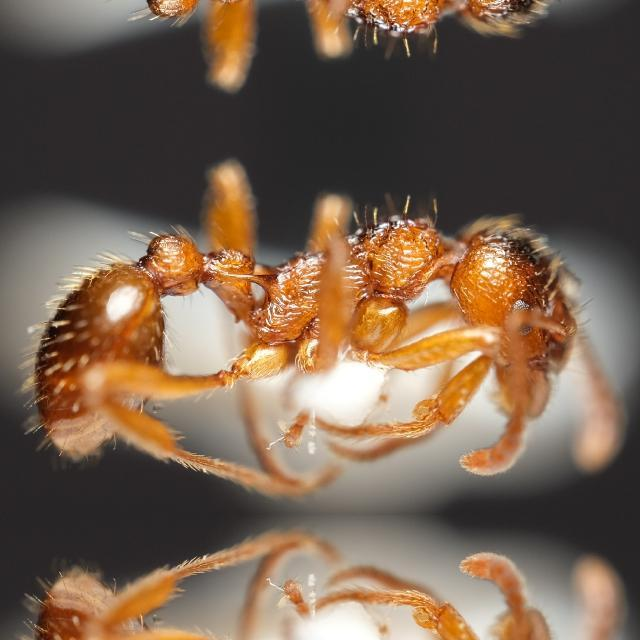Myrmica: (8, 160, 634, 478), (6, 548, 634, 640), (6, 0, 633, 88)
